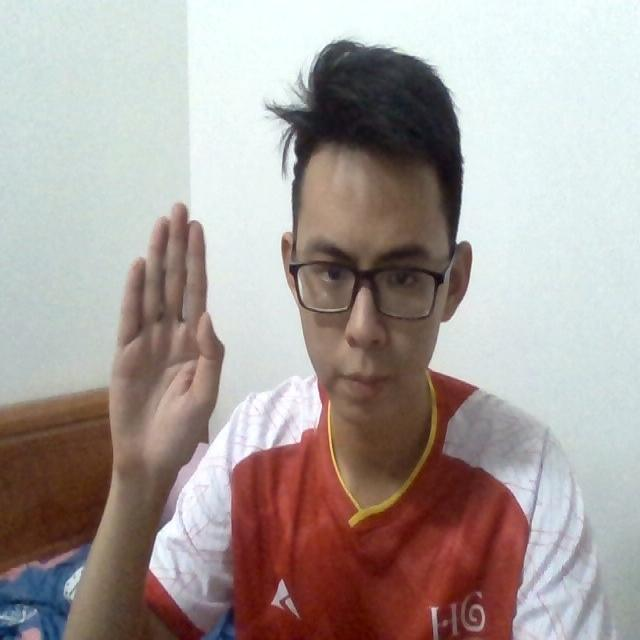B: (104, 195, 227, 473)
